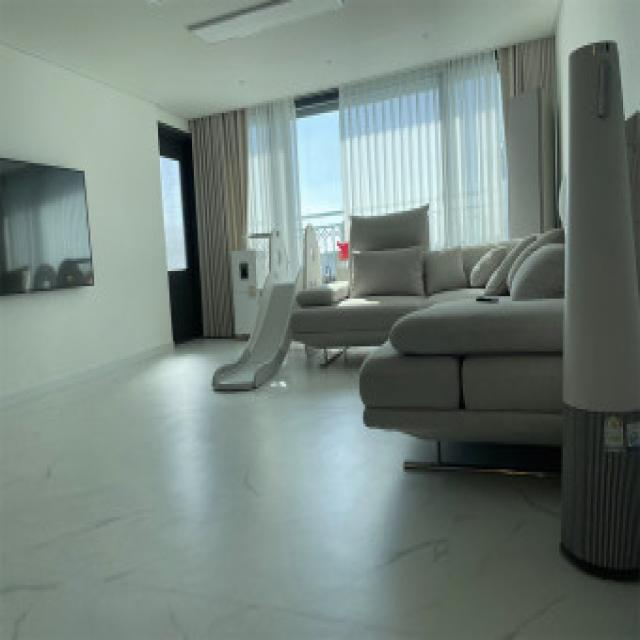Sofa: (306, 232, 619, 467)
tv: (2, 154, 96, 300)
window: (201, 102, 508, 245)
